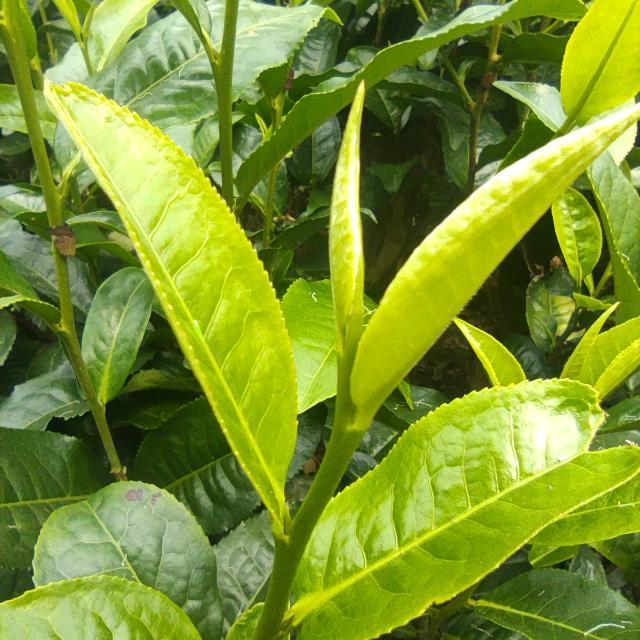Stem: (336, 428, 357, 453), (214, 58, 232, 86)
